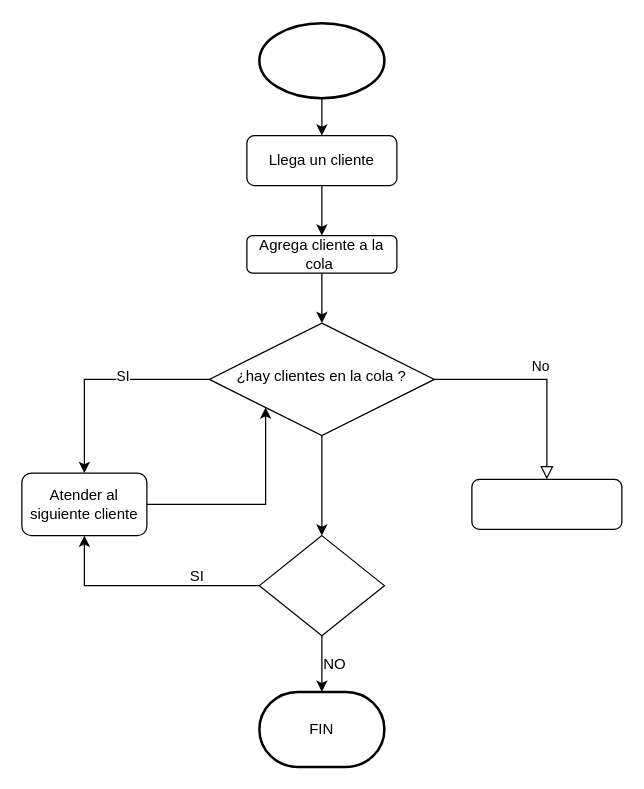
The diagram is 644 pixels wide and 789 high, and some of its shapes have lost their labels. The centre of each missing label's shape, as x and y in pixels:
"Esperar la llegada de nuevos clientes" goes at (x=546, y=503).
"inicio" goes at (x=321, y=60).
"¿Desea continuar?" goes at (x=321, y=585).
